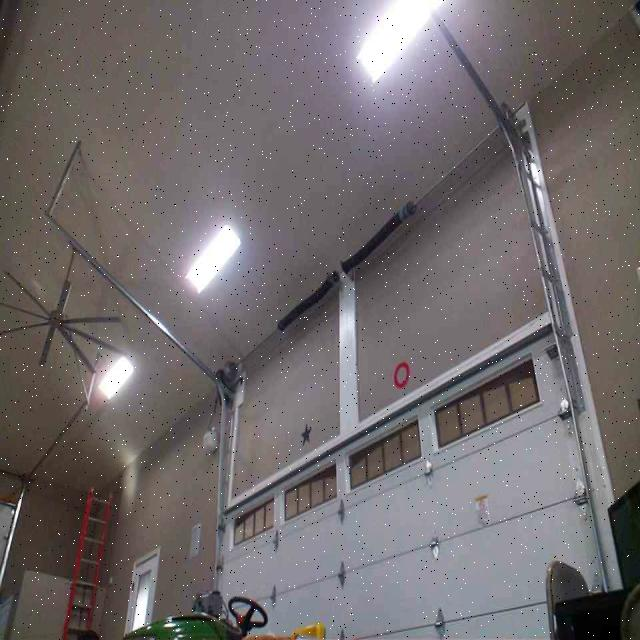ring_red: (392, 359, 409, 389)
triangle_black: (299, 420, 312, 446)
